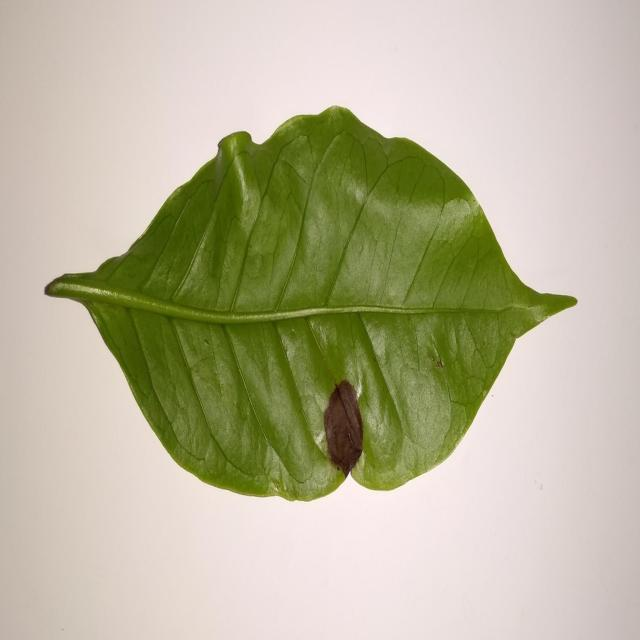Enfermedad-Antracnosis: (42, 108, 578, 504)
